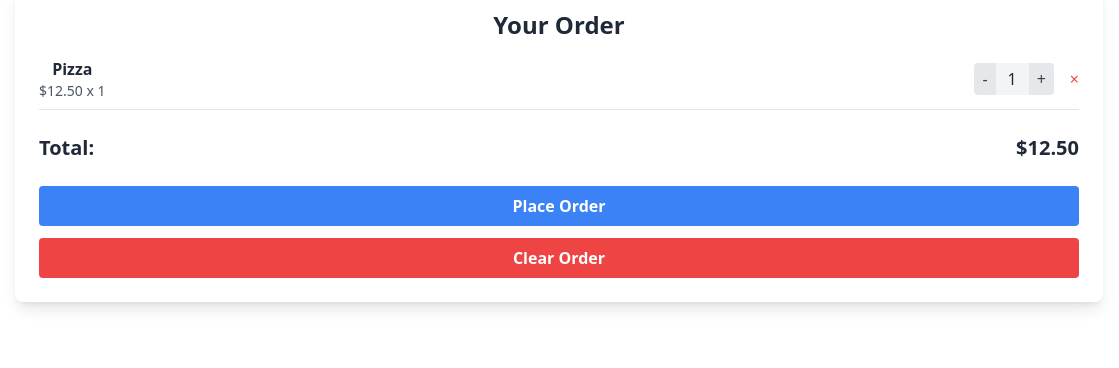
Test: OrderCart › shows the server error message when placing the order fails
This screenshot has width=1119, height=368.
Expected: the text "Pizza" is shown, [52, 58, 92, 80]
Click the button "Place Order" at x=559, y=206, box [39, 186, 1079, 226]
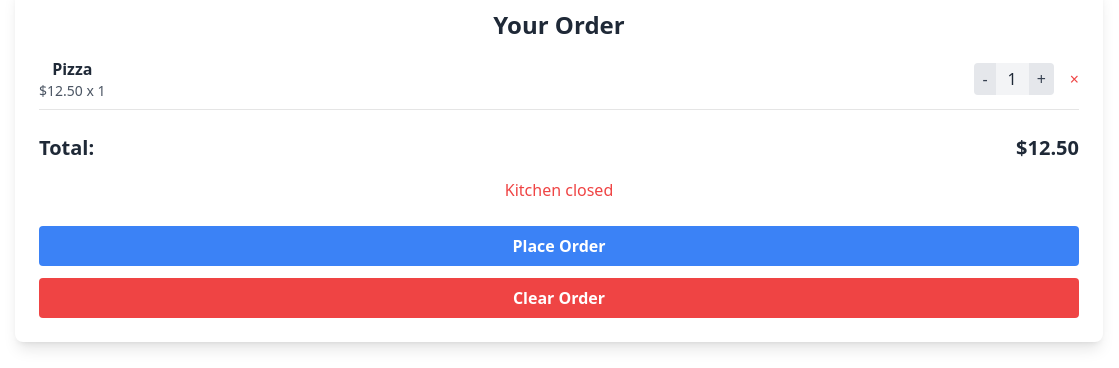
Expected: the text "Pizza" is shown, [52, 58, 92, 80]
Now the text "Kitchen closed" is shown, box [505, 179, 613, 201]
